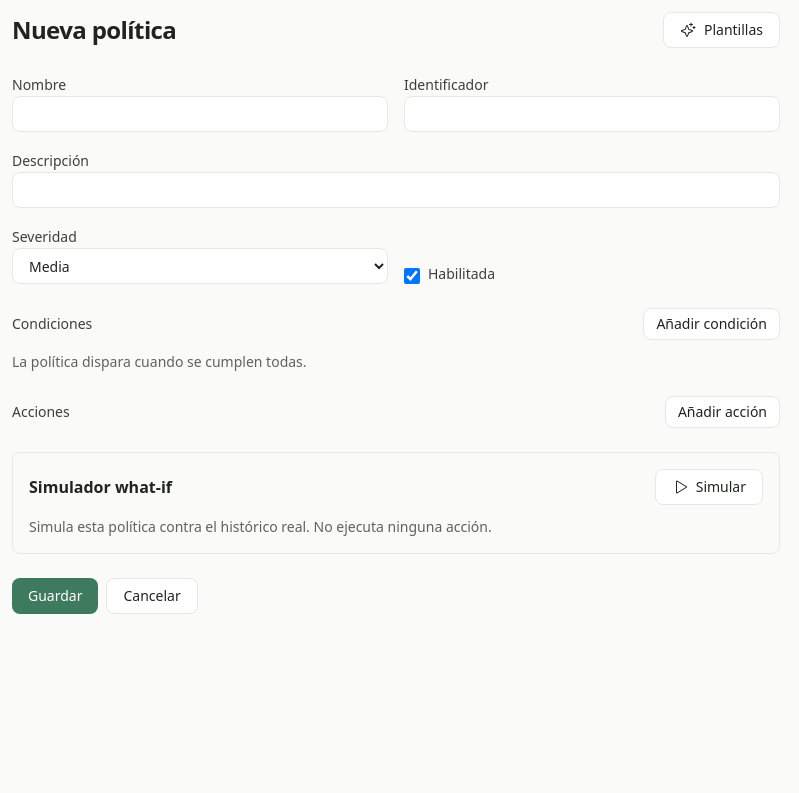
Test case: un valor no numérico en un campo numérico muestra el error debajo del campo
Type "Desviación" into the field labelled "Nombre" at (200, 114), box [12,96,388,132]
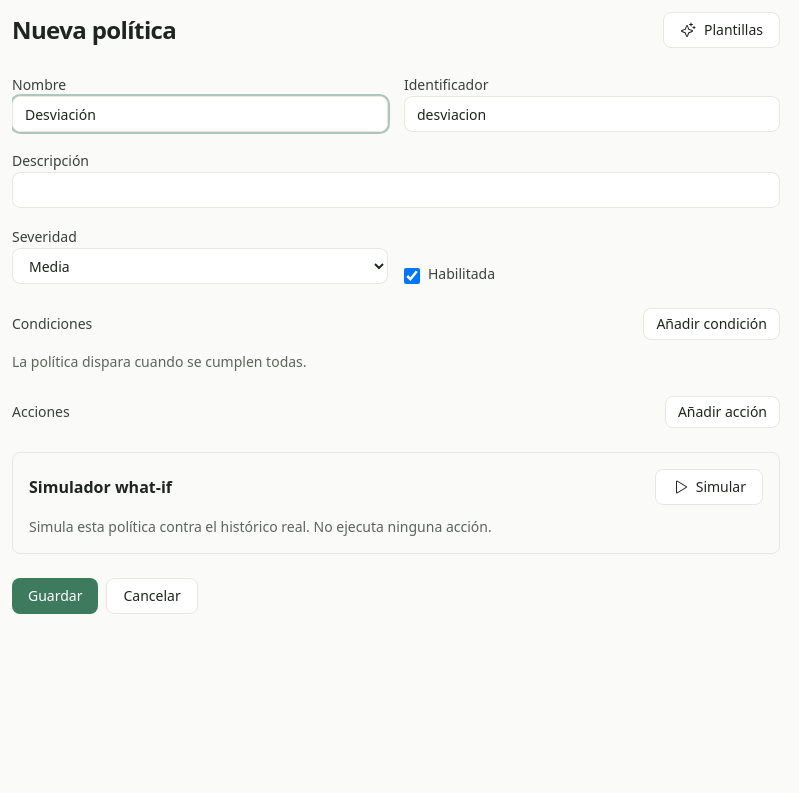
Click the button "Añadir condición" at (712, 324), box [643,308,780,340]
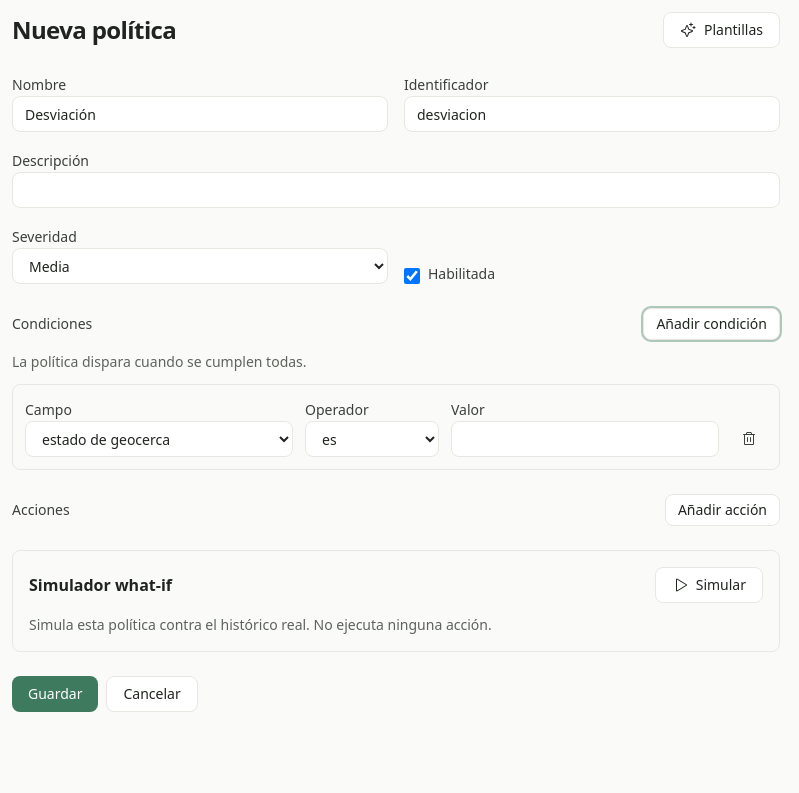
Select "desviación de ruta" in the dropdown labelled "Campo" at (159, 439), box [25,421,293,457]
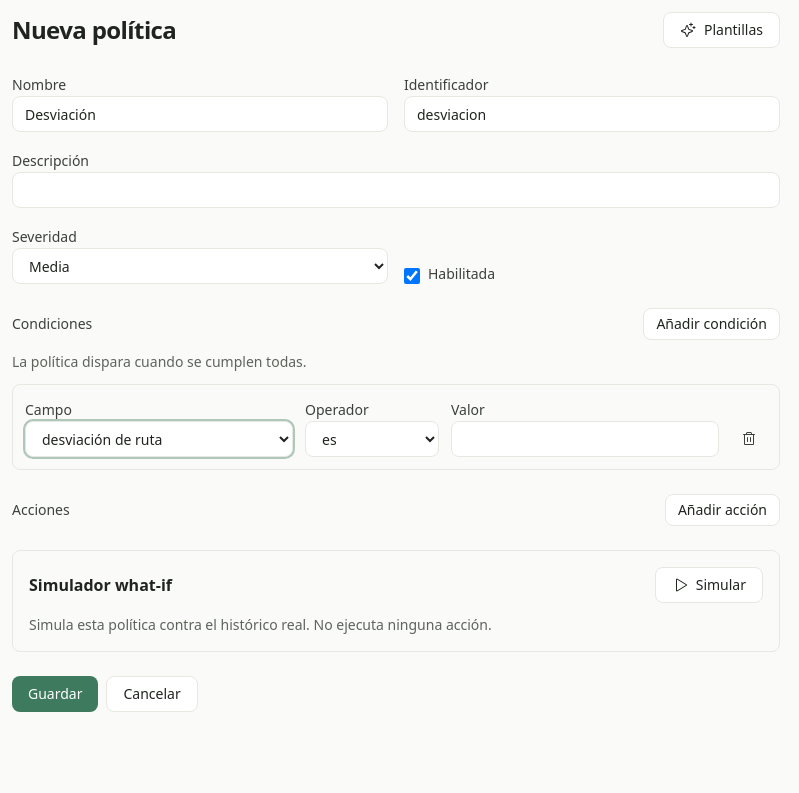
Type "muchos" into the field labelled "Valor" at (585, 439), box [451,421,719,457]
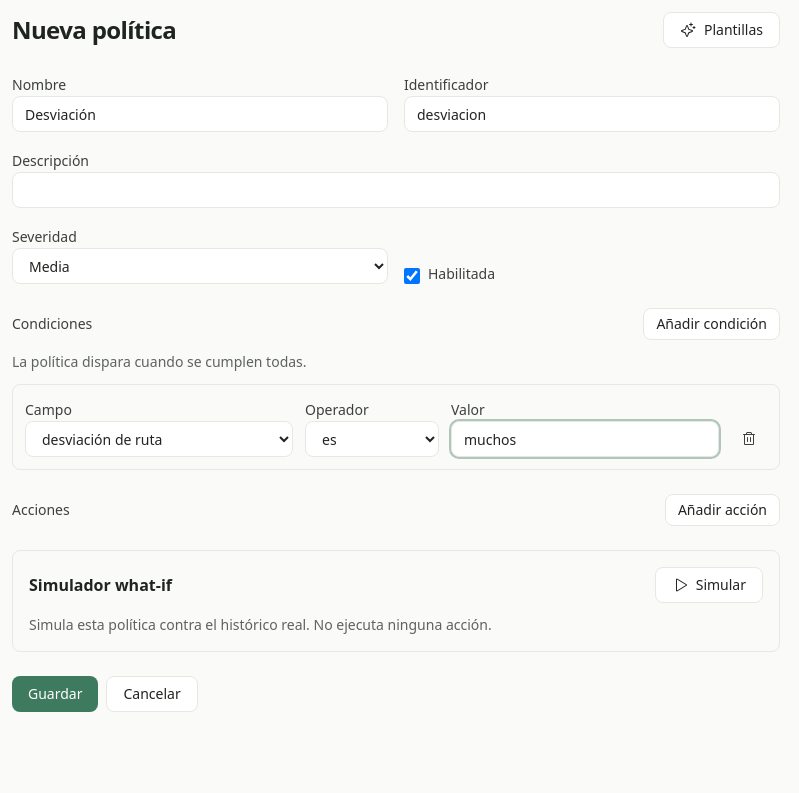
Click the button "Guardar" at (55, 694), box [12,676,98,712]
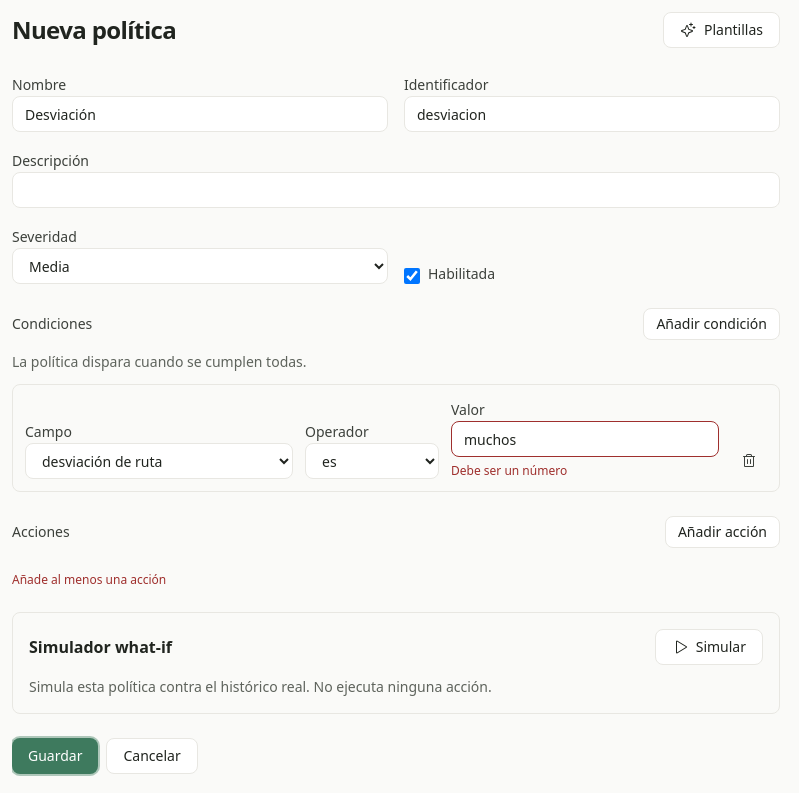
Expected: the text "Debe ser un número" is shown, [451,462,567,479]
